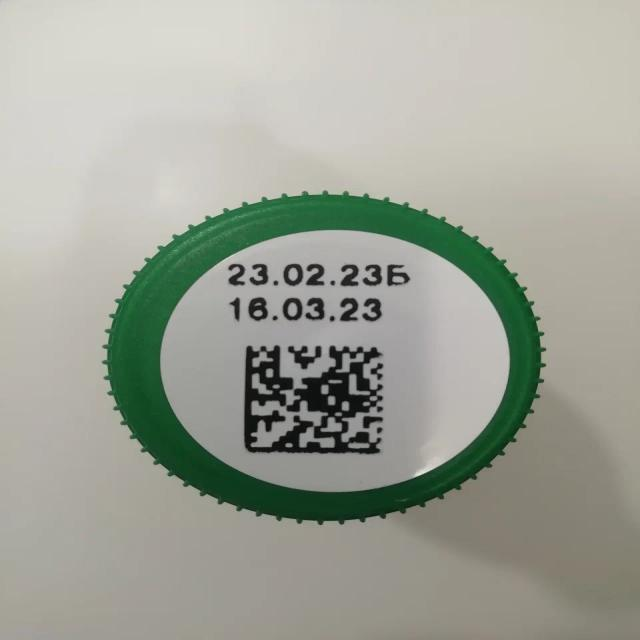datamatrix: (242, 344, 388, 458)
